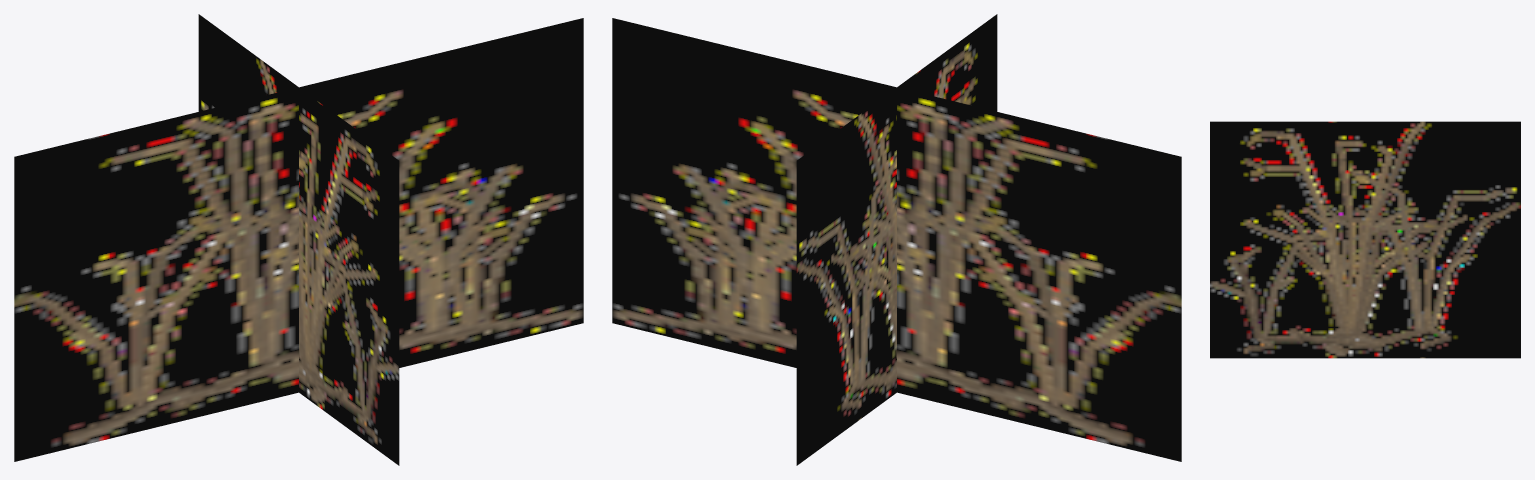
The model's file is s04b-far.glb.
The picture shows the model from 3 angles, left to right: view 1: azimuth 30°, elevation 25°; view 2: azimuth 150°, elevation 25°; view 3: azimuth 270°, elevation 25°; orthographic projection. The views are drawn at different scales.
Bounding box in the file's own units: 0.82 × 0.42 × 0.5.
Materials: 1 (1 with a texture image).
